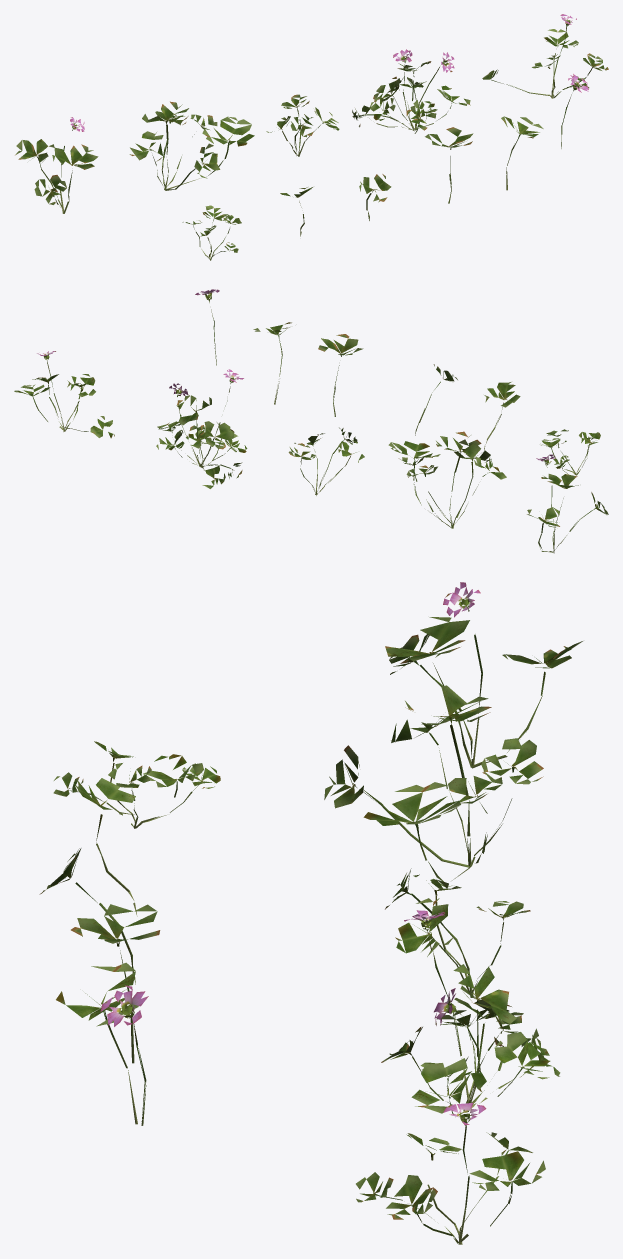
Rendered from shrub_sorrel_01_mobile.glb.
3 views of the same model, one above another, from view 1: azimuth 30°, elevation 25°; view 2: azimuth 150°, elevation 25°; view 3: azimuth 270°, elevation 25° (orthographic). The views are drawn at different scales.
Visible parts, largest first — view 1: shrub_sorrel_01_b, shrub_sorrel_01_d, shrub_sorrel_01_a, shrub_sorrel_01_e, shrub_sorrel_01_c, shrub_sorrel_01_f, shrub_sorrel_01_i, shrub_sorrel_01_j, shrub_sorrel_01_h; view 2: shrub_sorrel_01_d, shrub_sorrel_01_b, shrub_sorrel_01_e, shrub_sorrel_01_a, shrub_sorrel_01_c, shrub_sorrel_01_f, shrub_sorrel_01_i, shrub_sorrel_01_g; view 3: shrub_sorrel_01_b, shrub_sorrel_01_d, shrub_sorrel_01_e, shrub_sorrel_01_a, shrub_sorrel_01_c, shrub_sorrel_01_f, shrub_sorrel_01_i, shrub_sorrel_01_j, shrub_sorrel_01_k, shrub_sorrel_01_g.
Part boxes in pixels (box(x1,y1,x2,y2)): shrub_sorrel_01_b: box(129, 101, 254, 190); shrub_sorrel_01_d: box(352, 49, 470, 133); shrub_sorrel_01_a: box(15, 117, 98, 213); shrub_sorrel_01_e: box(482, 14, 608, 98); shrub_sorrel_01_c: box(266, 94, 339, 156); shrub_sorrel_01_f: box(182, 205, 241, 260); shrub_sorrel_01_i: box(425, 127, 473, 203); shrub_sorrel_01_j: box(501, 116, 543, 190); shrub_sorrel_01_h: box(359, 174, 391, 220); shrub_sorrel_01_d: box(156, 369, 247, 488); shrub_sorrel_01_b: box(388, 431, 506, 528); shrub_sorrel_01_e: box(14, 351, 114, 438); shrub_sorrel_01_a: box(527, 454, 608, 553); shrub_sorrel_01_c: box(288, 427, 364, 495); shrub_sorrel_01_f: box(541, 429, 600, 475); shrub_sorrel_01_i: box(318, 334, 363, 416); shrub_sorrel_01_g: box(484, 382, 520, 450); shrub_sorrel_01_b: box(324, 685, 543, 881); shrub_sorrel_01_d: box(381, 910, 560, 1114); shrub_sorrel_01_e: box(356, 1102, 545, 1244); shrub_sorrel_01_a: box(385, 582, 582, 768); shrub_sorrel_01_c: box(385, 868, 530, 997); shrub_sorrel_01_f: box(53, 741, 220, 828); shrub_sorrel_01_i: box(71, 904, 160, 1063); shrub_sorrel_01_j: box(56, 962, 138, 1124); shrub_sorrel_01_k: box(100, 985, 148, 1125); shrub_sorrel_01_g: box(73, 778, 137, 916).
Bounding box in the file's own units: 0.3521 × 0.058 × 0.1464.
Materials: 1 (1 with a texture image).
